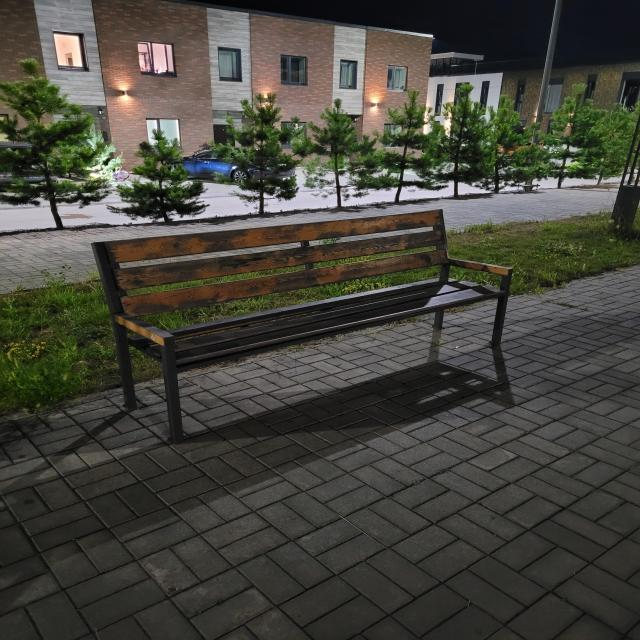Bench: (91, 209, 513, 444)
